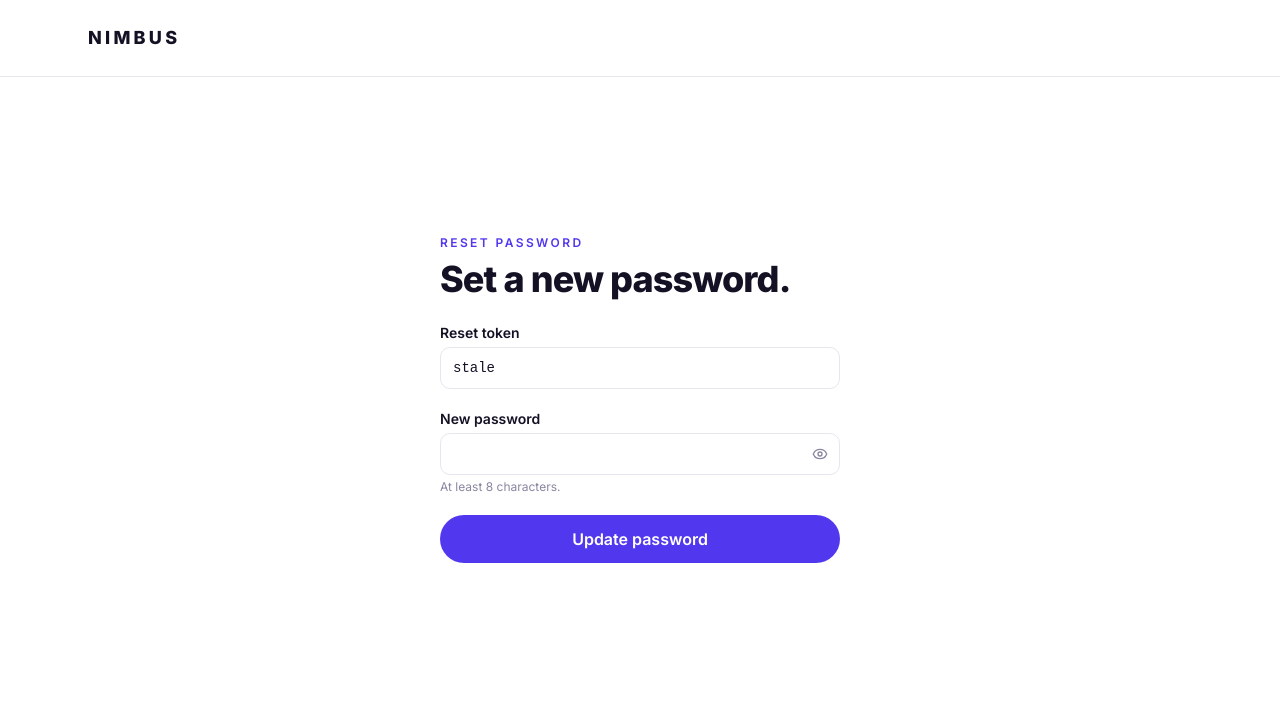
Scenario: PasswordResetConfirmPage › shows "invalid or expired" on a 400
Type "brand-new-pass" into the password field labelled "New password" at (640,454), box [440,432,840,474]
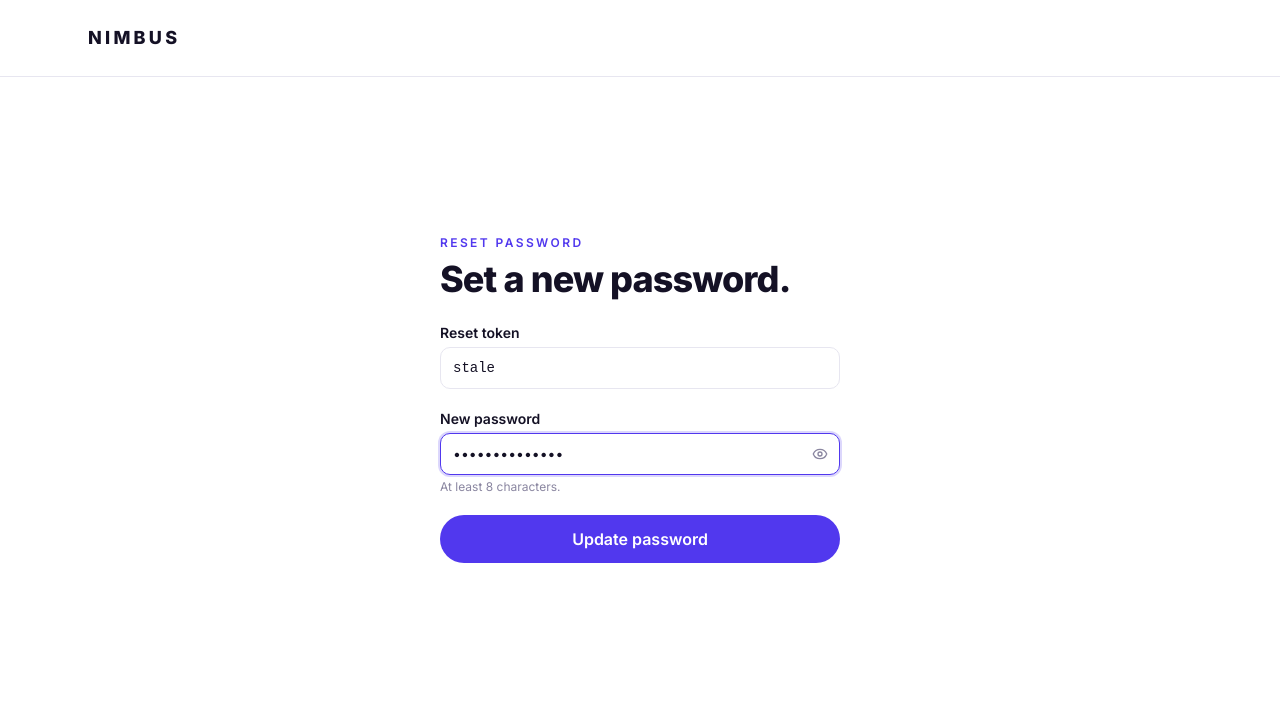
Click the button "Update password" at (640,538), box [440,514,840,562]
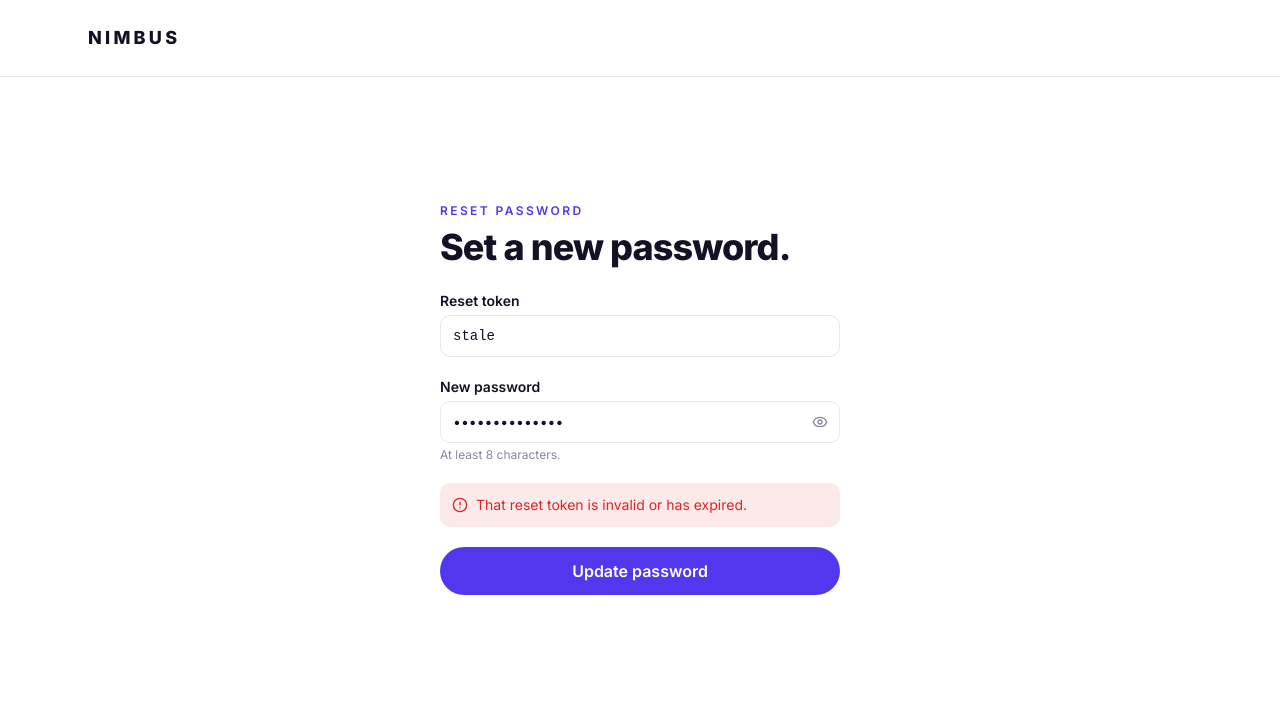
Check: the message shows "invalid or has expired", box [476,496,747,512]
